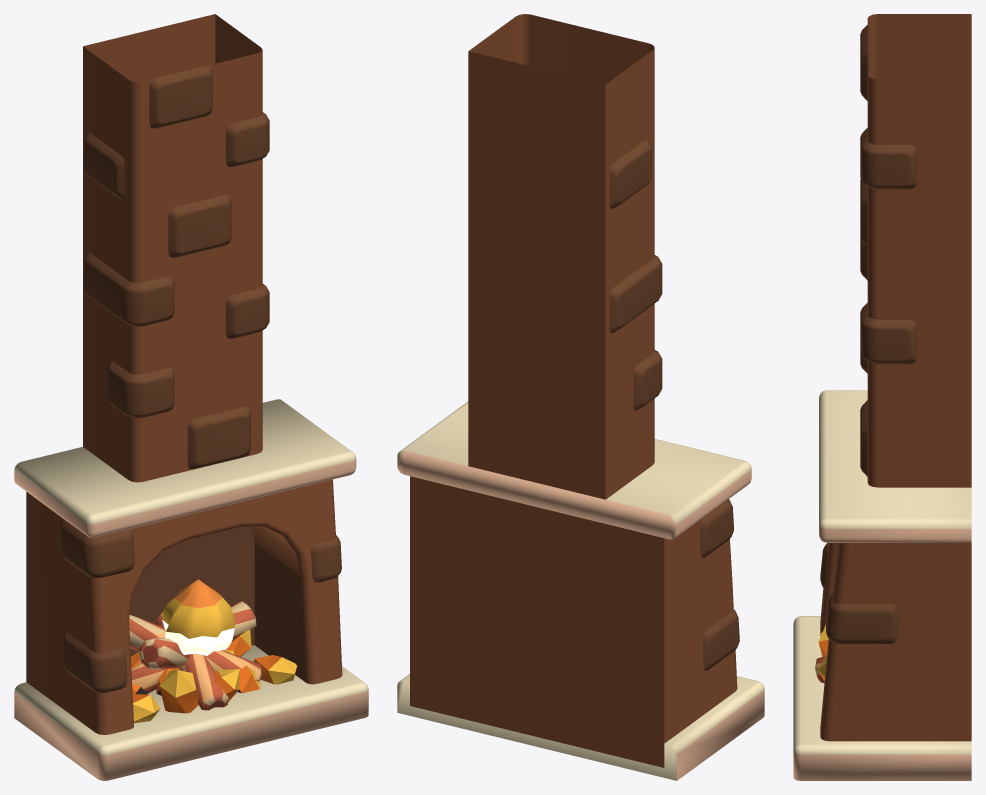
File: lareira_natal_acesa_chamine_pacote.glb
3 views of the same model, side by side, from view 1: azimuth 30°, elevation 25°; view 2: azimuth 150°, elevation 25°; view 3: azimuth 270°, elevation 25° (orthographic). The views are drawn at different scales.
Visible parts, largest first — view 1: lareira_natal_acesa_chamine_pacote, fogo; view 2: lareira_natal_acesa_chamine_pacote; view 3: lareira_natal_acesa_chamine_pacote.
Part boxes in pixels (left/top/right/bottom): lareira_natal_acesa_chamine_pacote: left=14, top=14, right=368, bottom=780; fogo: left=162, top=579, right=234, bottom=655; lareira_natal_acesa_chamine_pacote: left=397, top=14, right=764, bottom=780; lareira_natal_acesa_chamine_pacote: left=793, top=14, right=971, bottom=780.
Bounding box in the file's own units: 1.26 × 2.92 × 0.7082.
2 materials, 1 textured.
